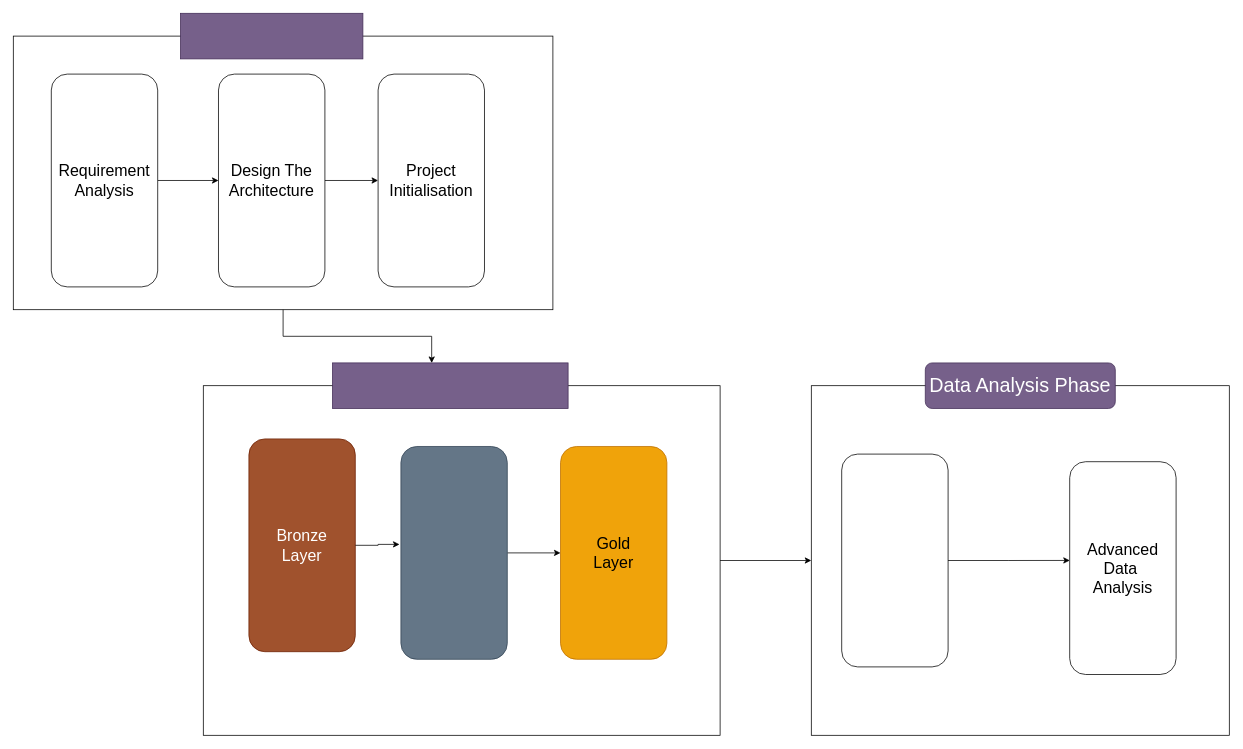
This 1243x749 diagram has some shape labels left out. Here are the shapes that lost their labels. From the top down, the centre of each, then its label:
point 271,36: Initialisation Phase
point 450,385: Data Engineering Phase
point 453,552: Silver Layer
point 894,560: Exploratory Data Analysis
